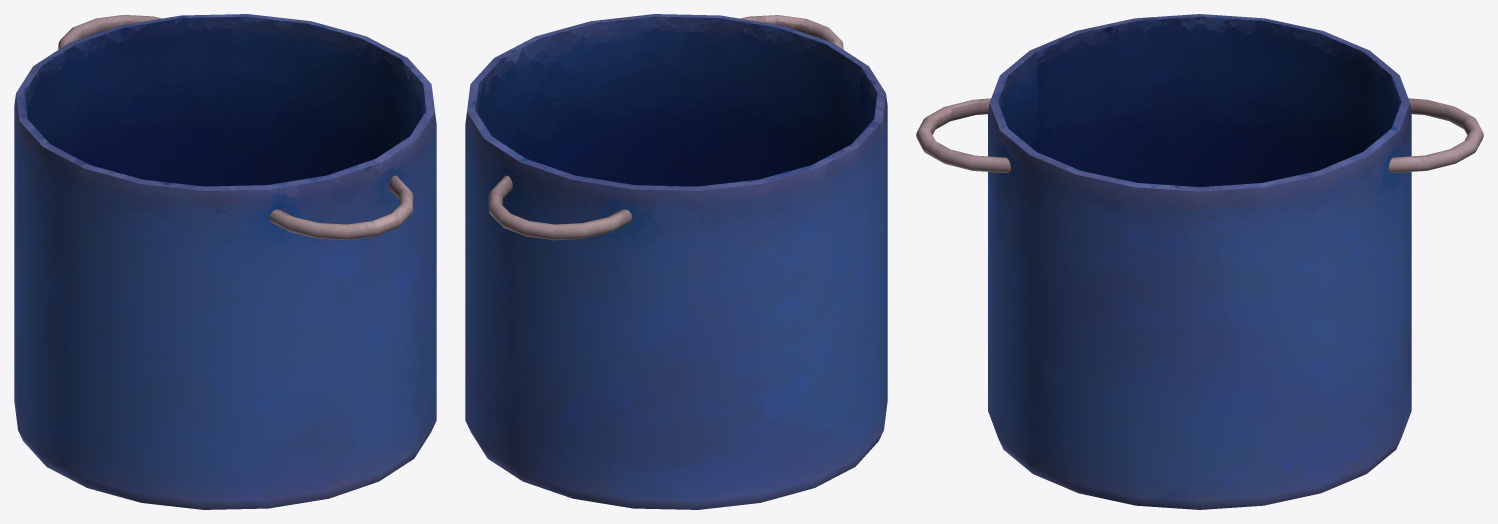
File: 17_Lv1 Pot.fbx
The picture shows the model from 3 angles, left to right: view 1: azimuth 30°, elevation 25°; view 2: azimuth 150°, elevation 25°; view 3: azimuth 270°, elevation 25°; orthographic projection.
Parts seen in each view (by area): view 1: Pot; view 2: Pot; view 3: Pot.
Boxes of the visible parts, x1,y1,x2,y2 form: Pot: [14, 14, 436, 509]; Pot: [465, 14, 887, 509]; Pot: [916, 14, 1483, 509].
Bounding box in the file's own units: 628 × 532 × 841.
